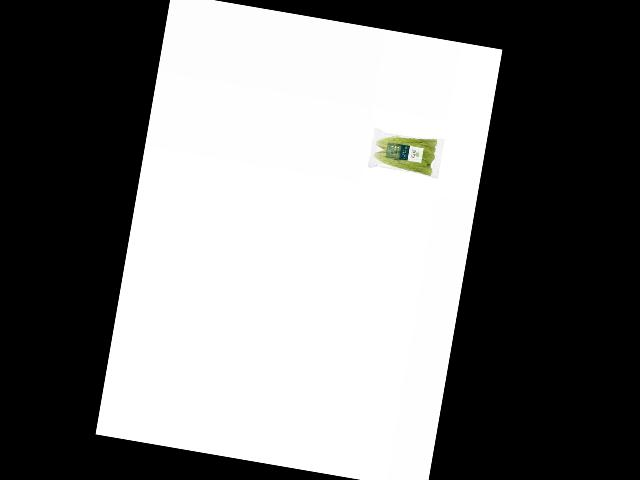lettuce: (370, 129, 439, 181)
